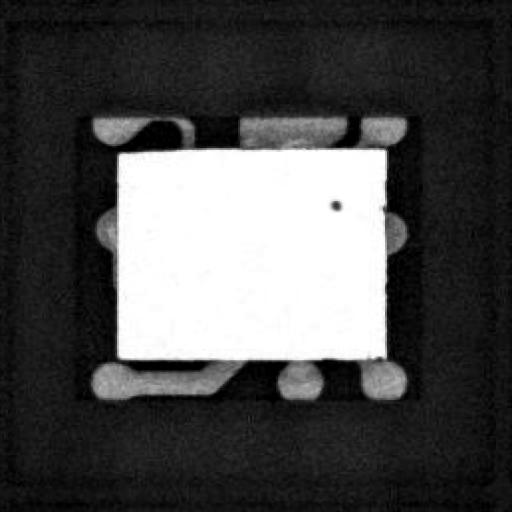DIE_INK: (309, 202, 328, 222)
